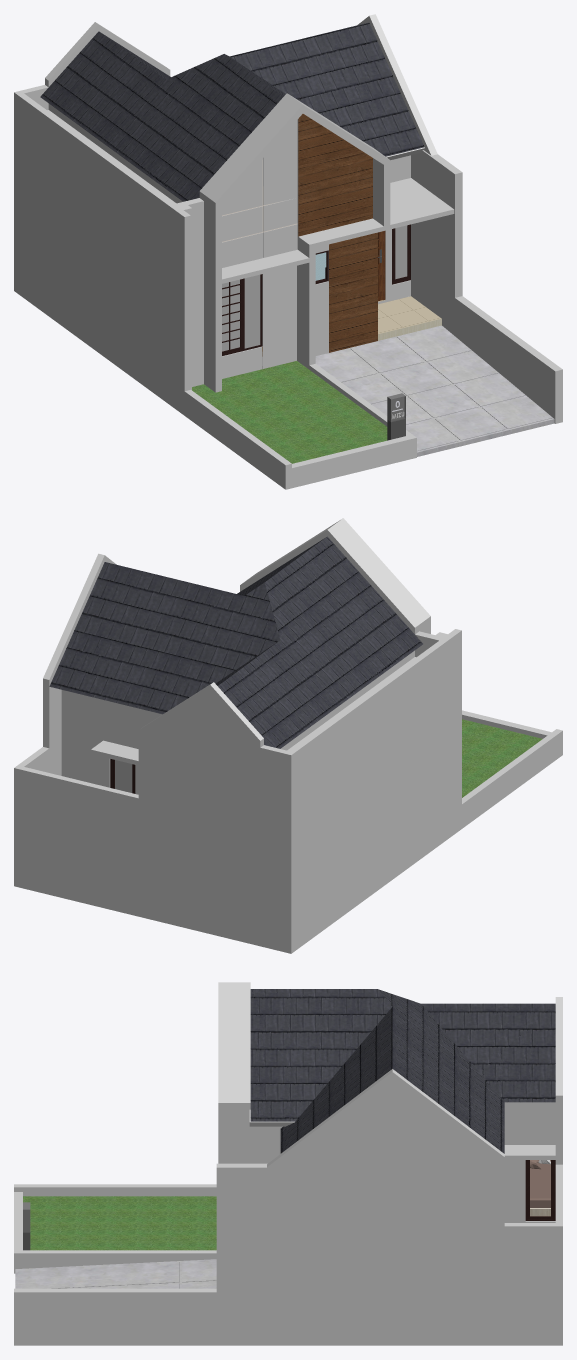
File: mizu-36.glb
3 renders of one model, top to bottom at view 1: azimuth 30°, elevation 25°; view 2: azimuth 150°, elevation 25°; view 3: azimuth 270°, elevation 25°, orthographic.
Visible parts, largest first — view 1: Mesh147 Group39 Component_21_1 Smart_Door_Lock_Model_1_1 Gro, Mesh418 Group184 Group183 Model, Mesh169 Group62 Model, Mesh156 Group47 Model, Mesh180 Group74 Model, Mesh4 Group6 Group4 Group3 Model, Mesh203 Group96 Model, Mesh3 Group5 Group4 Group3 Model; view 2: Mesh147 Group39 Component_21_1 Smart_Door_Lock_Model_1_1 Gro, Mesh418 Group184 Group183 Model, Mesh180 Group74 Model; view 3: Mesh147 Group39 Component_21_1 Smart_Door_Lock_Model_1_1 Gro, Mesh418 Group184 Group183 Model, Mesh180 Group74 Model, Mesh169 Group62 Model, Mesh260 Group134 Group133 Group132 cama_simple_confort_zeitr, Mesh3 Group5 Group4 Group3 Model.
Boxes of the visible parts, <box> form: Mesh147 Group39 Component_21_1 Smart_Door_Lock_Model_1_1 Gro: <box>14,14,562,489</box>; Mesh418 Group184 Group183 Model: <box>40,22,424,201</box>; Mesh169 Group62 Model: <box>315,325,554,456</box>; Mesh156 Group47 Model: <box>222,114,377,352</box>; Mesh180 Group74 Model: <box>192,361,387,463</box>; Mesh4 Group6 Group4 Group3 Model: <box>222,225,407,351</box>; Mesh203 Group96 Model: <box>378,296,441,340</box>; Mesh3 Group5 Group4 Group3 Model: <box>222,224,410,355</box>; Mesh147 Group39 Component_21_1 Smart_Door_Lock_Model_1_1 Gro: <box>14,518,562,953</box>; Mesh418 Group184 Group183 Model: <box>49,536,422,748</box>; Mesh180 Group74 Model: <box>462,719,542,797</box>; Mesh147 Group39 Component_21_1 Smart_Door_Lock_Model_1_1 Gro: <box>14,982,562,1345</box>; Mesh418 Group184 Group183 Model: <box>250,989,555,1153</box>; Mesh180 Group74 Model: <box>23,1196,216,1250</box>; Mesh169 Group62 Model: <box>15,1259,216,1288</box>; Mesh260 Group134 Group133 Group132 cama_simple_confort_zeitr: <box>530,1160,550,1207</box>; Mesh3 Group5 Group4 Group3 Model: <box>525,1160,555,1220</box>.
Size of the model in its own units: 6.5 by 6.32 by 11.03.
Materials: 63 (18 with a texture image).
